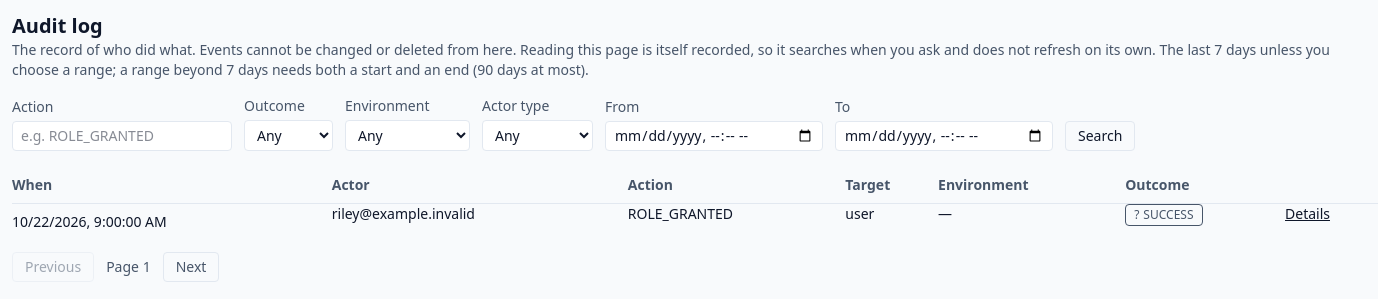
Scenario: reading the trail is itself recorded, so the page is sparing › asks again only for a search or a page turned
expect the text "ROLE_GRANTED" is shown: met, box [628,204,845,240]
Click the button "Next" at (191, 267), box [163,252,219,282]
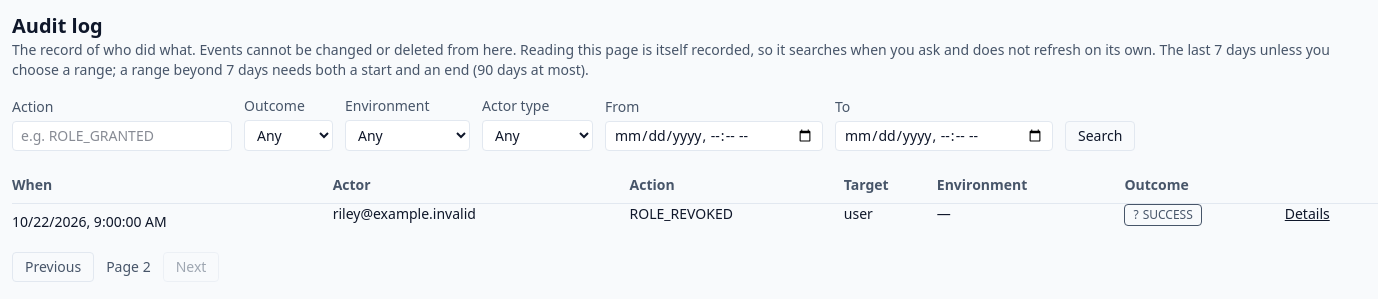
expect the text "ROLE_REVOKED" is shown: met, box [630,204,844,240]
